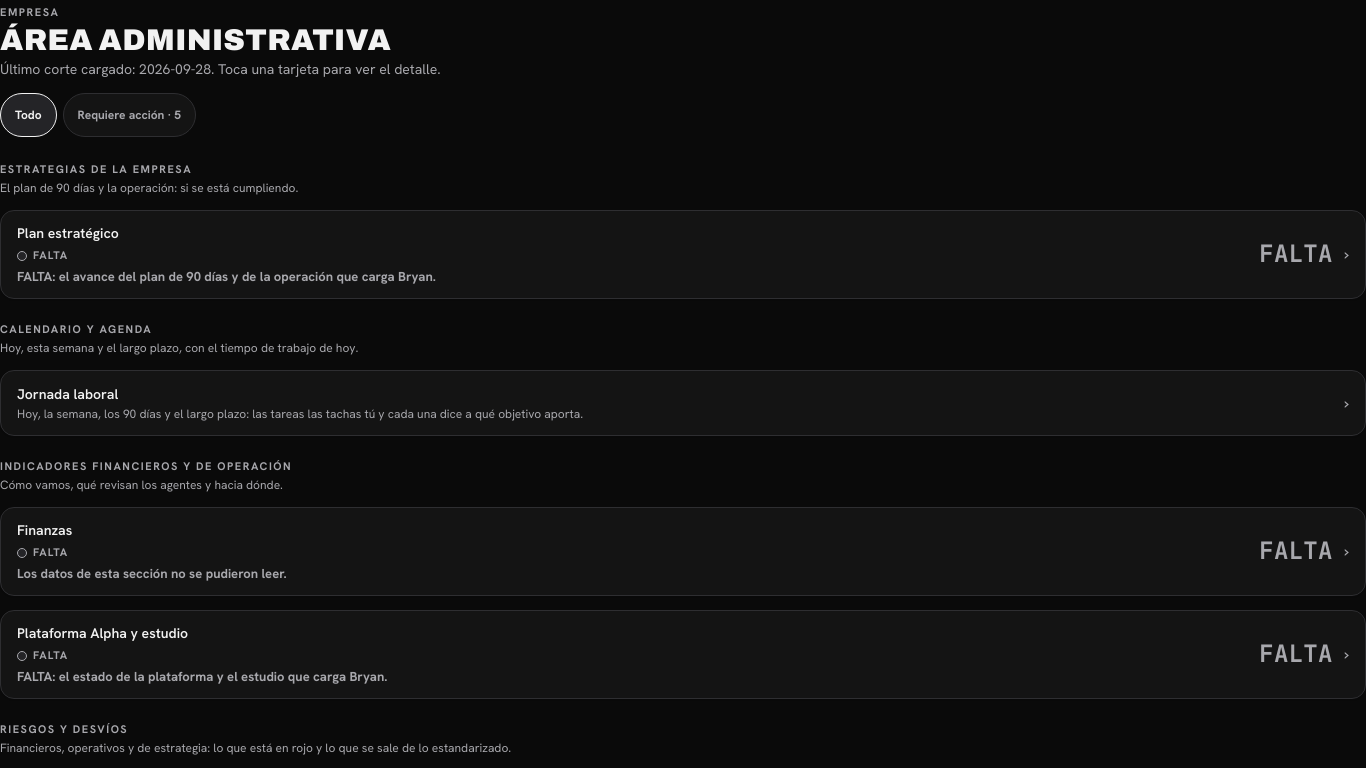
Test: AdministracionPage · tablero de la migración 0102 › una sección con datos inválidos lo dice y no se pinta a medias
Step 1. Click the button "no se pudieron leer" → (45,530), box x1=1 y1=508 x2=1365 y2=595
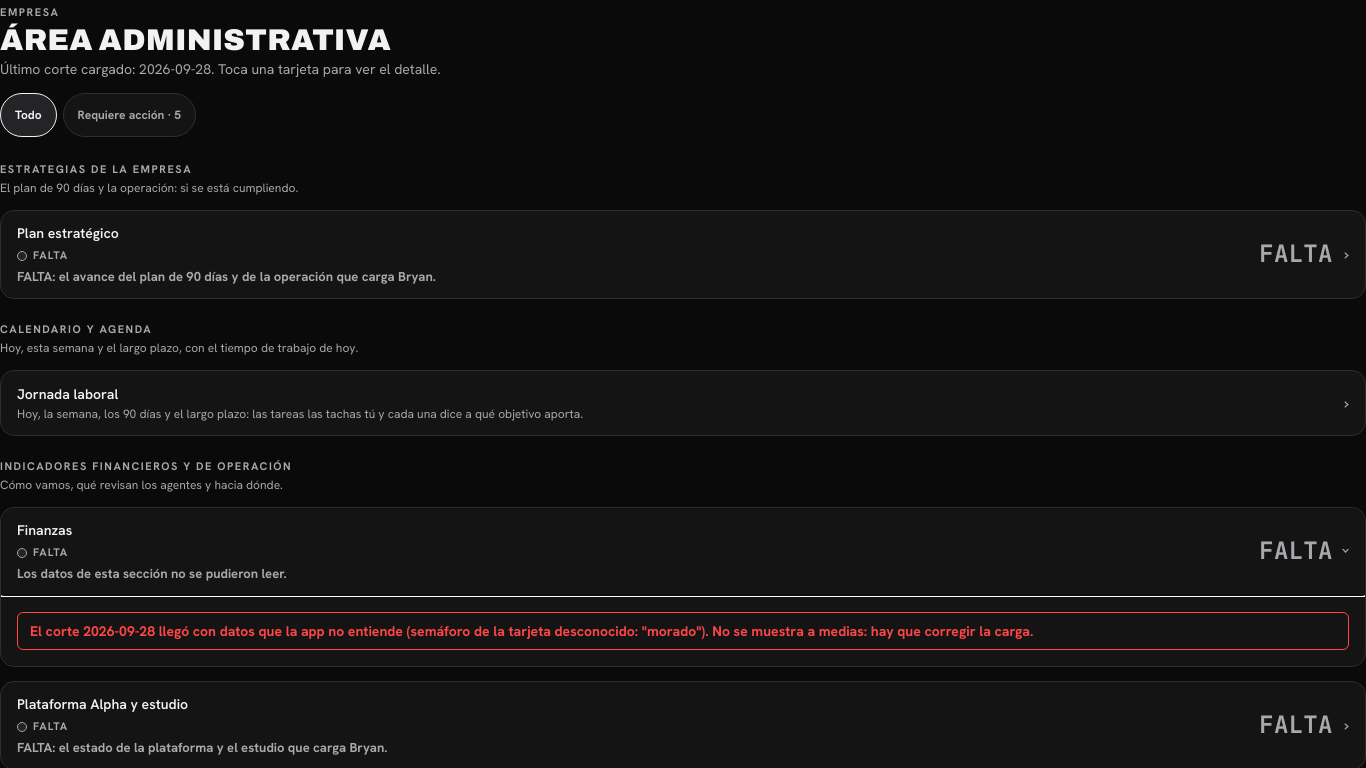
Expected: the message shows "semáforo de la tarjeta desconocido", x1=410 y1=622 x2=701 y2=640
